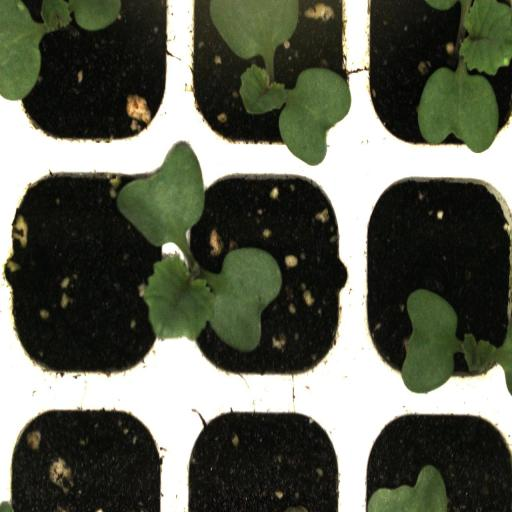noseedling: (0, 160, 170, 393)
seedling: (174, 155, 351, 392), (356, 158, 512, 399), (177, 0, 355, 150), (0, 0, 174, 153), (358, 0, 511, 150)
